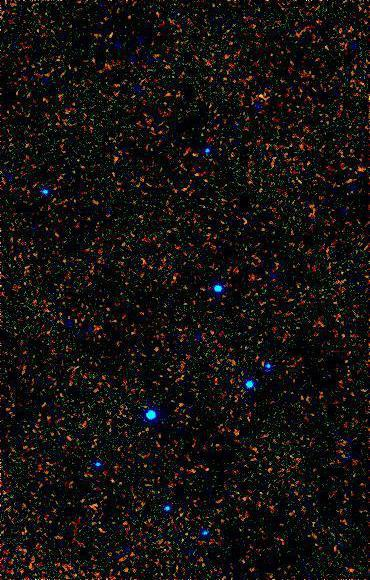star: (251, 82, 281, 112)
